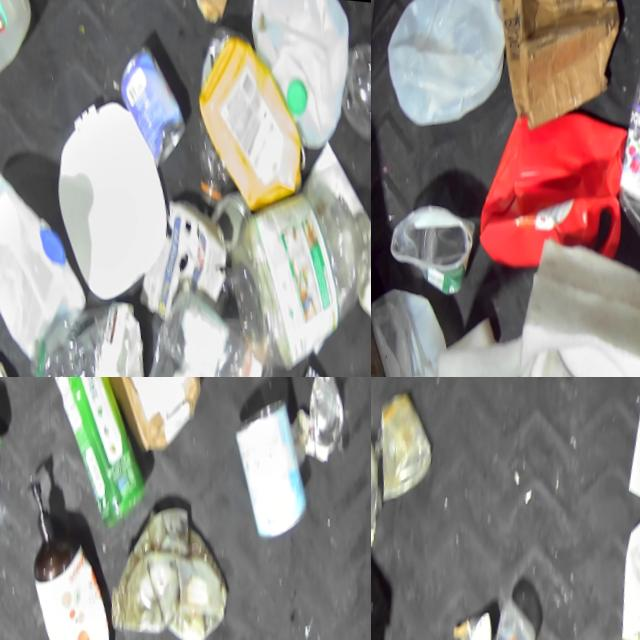can: (219, 377, 311, 548), (112, 50, 189, 161)
milk_jug: (371, 0, 515, 142), (240, 0, 360, 160), (0, 183, 83, 362), (0, 0, 34, 127)
non_white_jug: (459, 104, 638, 296), (8, 377, 158, 534), (182, 30, 314, 201)
plastic_bottle: (599, 21, 640, 251), (331, 44, 371, 197)
